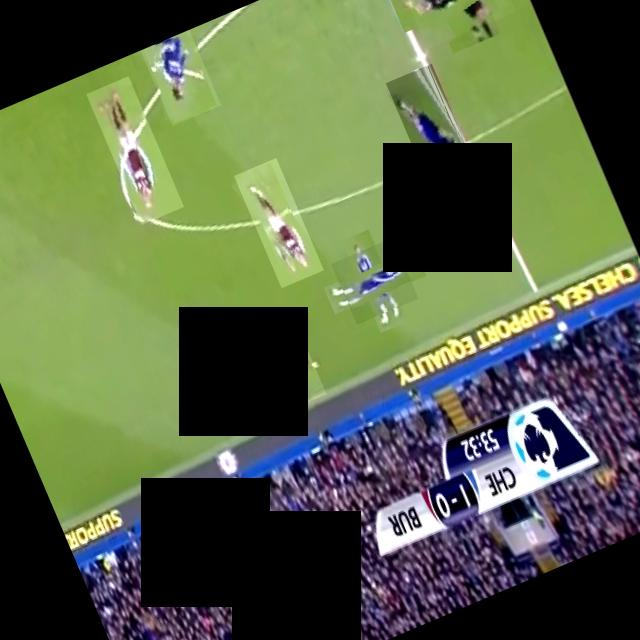referee: (388, 0, 514, 47)
soccer-player: (84, 75, 182, 224), (384, 62, 482, 204), (232, 156, 322, 286), (138, 29, 220, 124), (329, 236, 416, 324), (241, 335, 325, 418)
